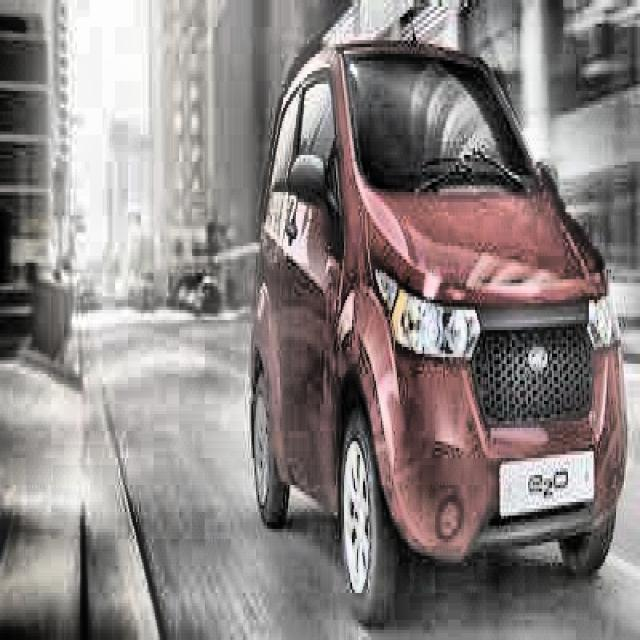license_plate: (510, 450, 574, 513)
